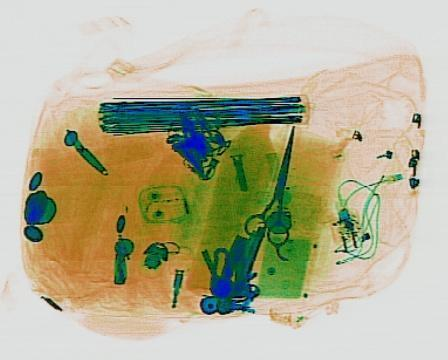Scissors: (239, 120, 315, 246)
